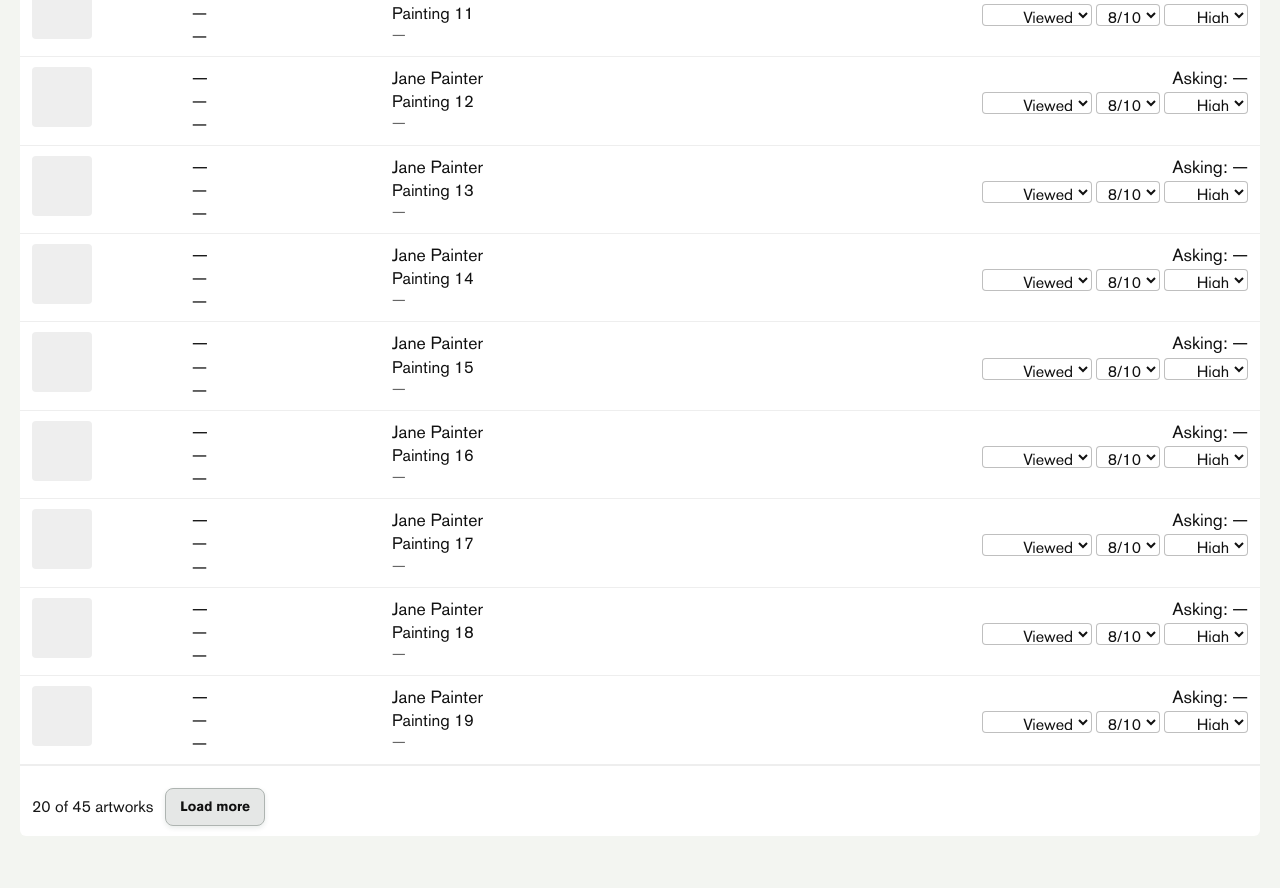
Test: server-paginated artwork index › loads only the next 20 rows of the selected group and then the final five
(page scrolled)
Click the button "Load more".
click(215, 807)  # box [165,788,265,826]
(page scrolled)
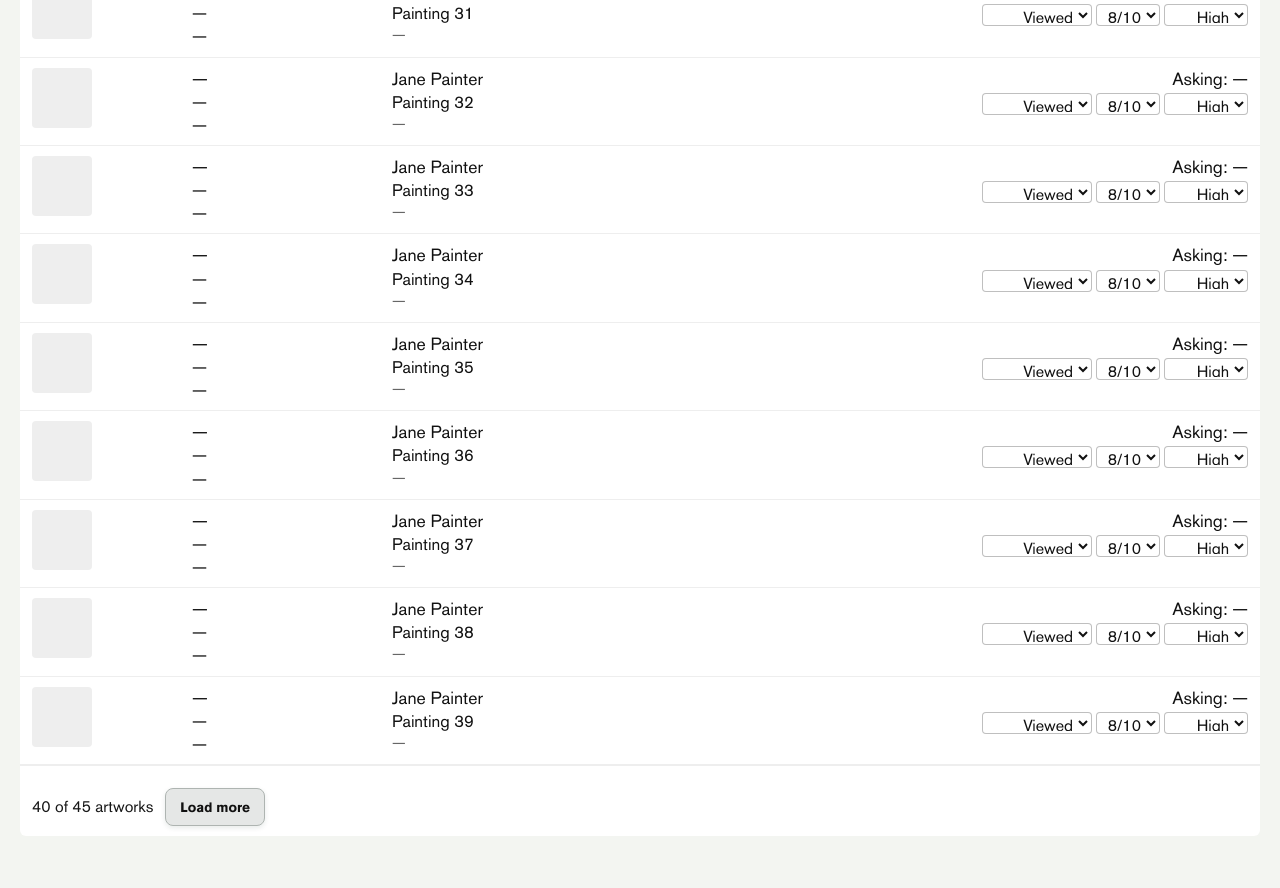
Click the button "Load more".
click(215, 807)  # box [165,788,265,826]
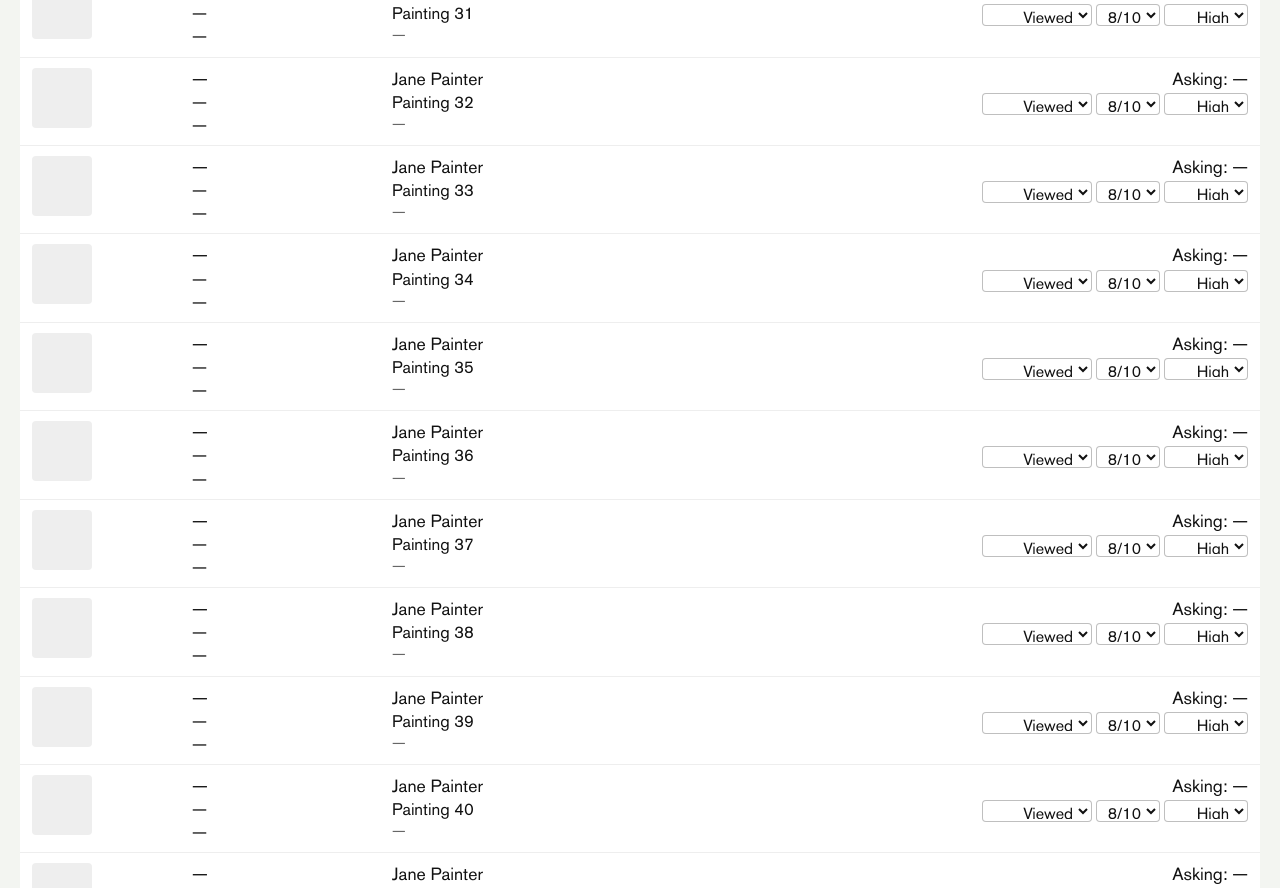
Check: the text "Load more" is gone
